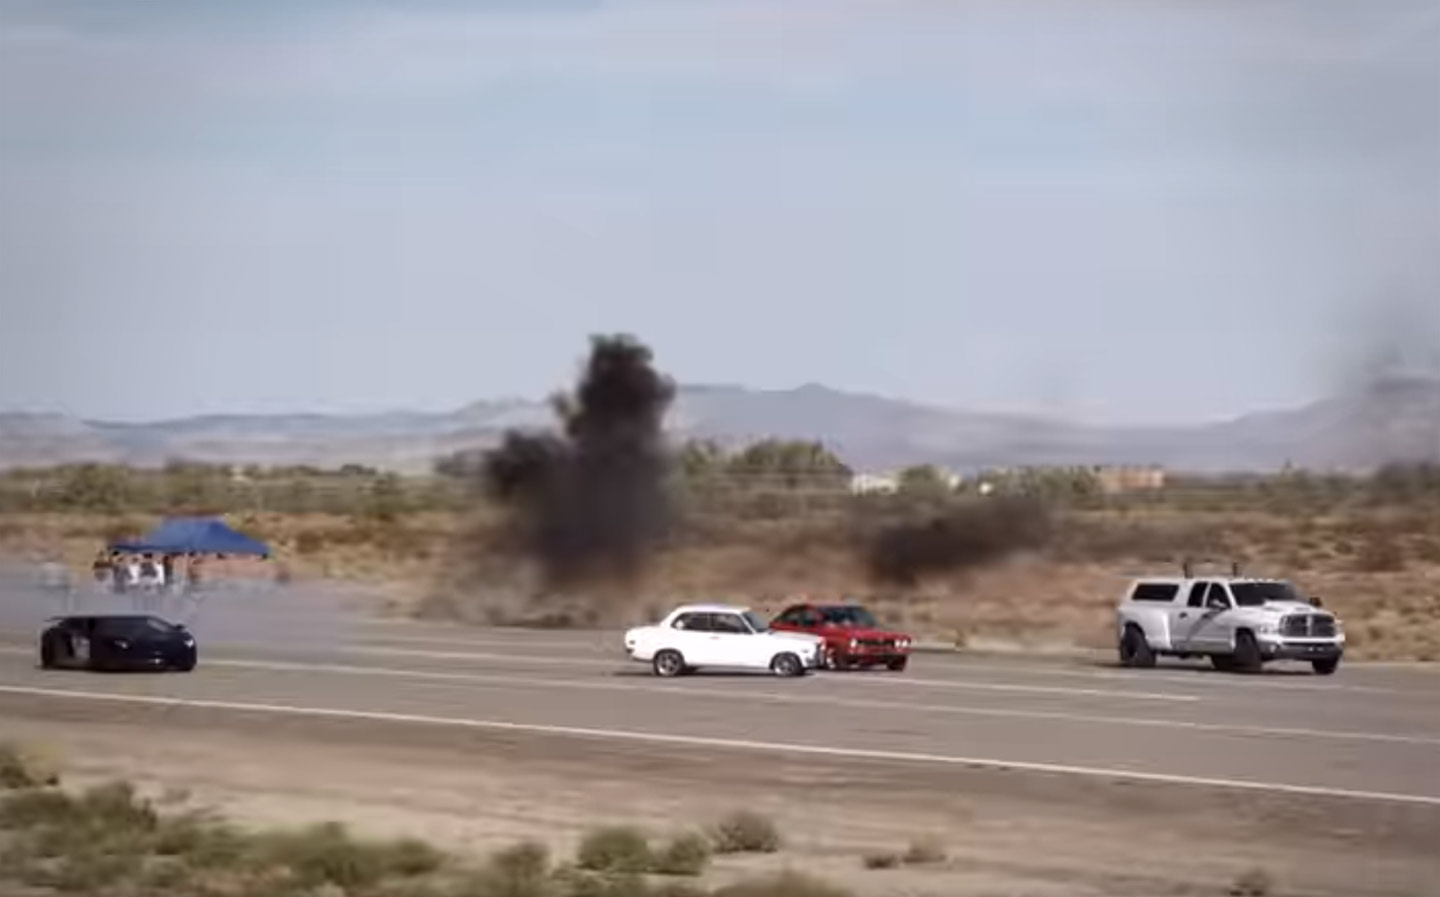car: (1102, 555, 1365, 699), (616, 585, 828, 701), (23, 594, 225, 699), (762, 592, 916, 701)
